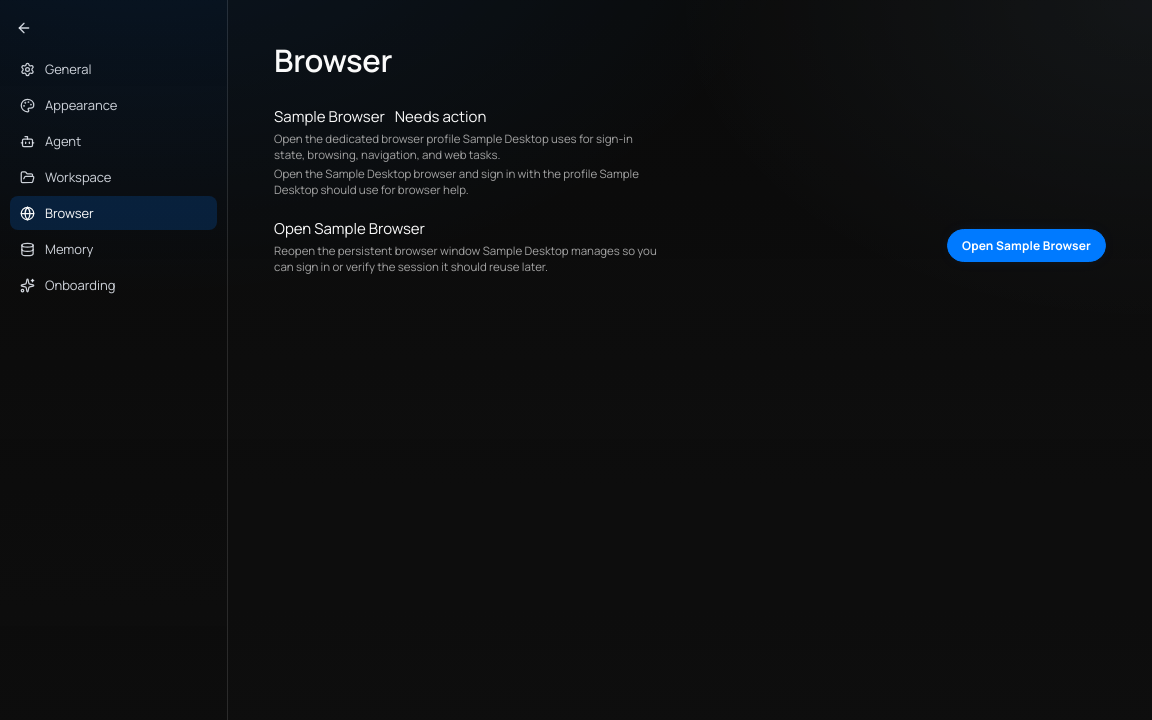
Scenario: SettingsSection › browser tab renders permission request rejections inline
This screenshot has width=1152, height=720.
Click the button "Open Sample Browser". click: (1026, 246)
box: 947,229 -> 1106,262
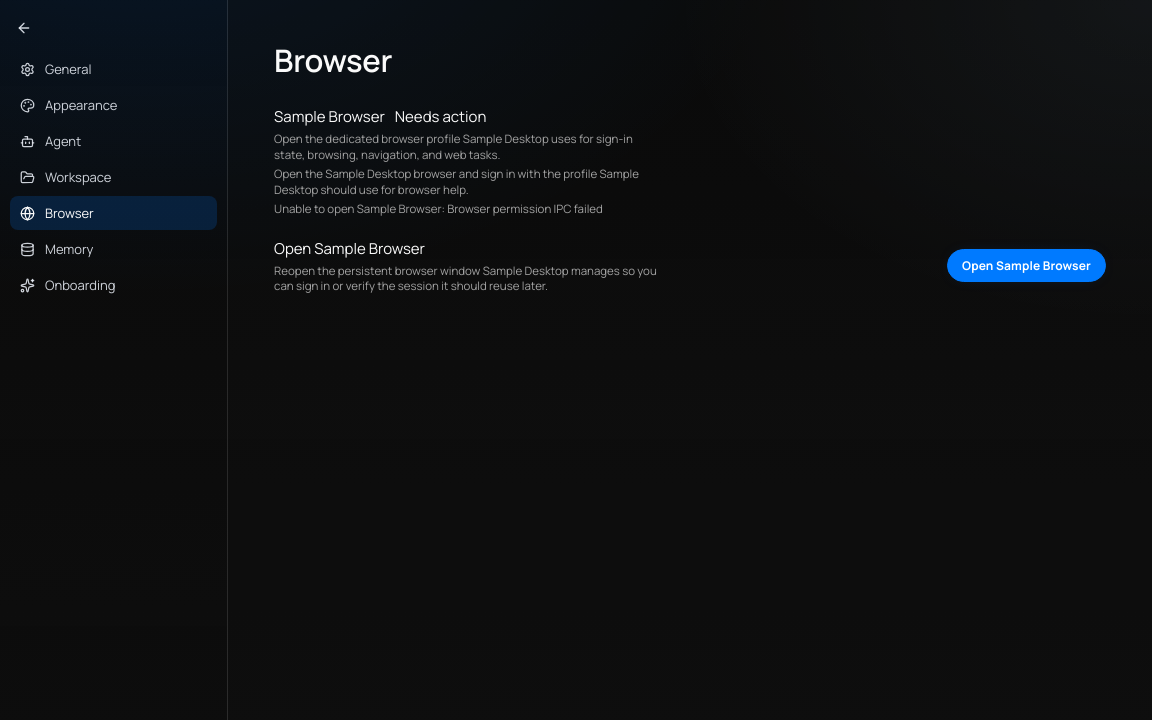
Check: the text "Unable to open Sample Browser: Browser permission IPC failed" is shown, box 274,201 -> 603,216
